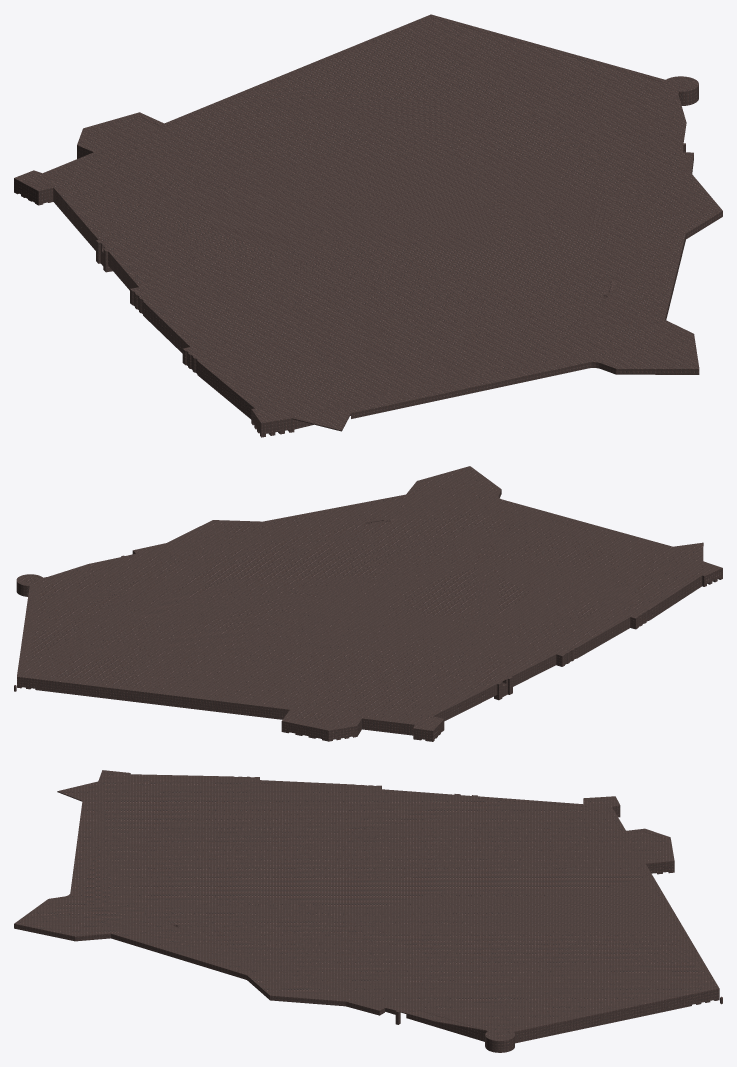
Rendered from Fortify_Plan.fbx.
The picture shows the model from 3 angles, top to bottom: view 1: azimuth 30°, elevation 25°; view 2: azimuth 150°, elevation 25°; view 3: azimuth 270°, elevation 25°; orthographic projection. The views are drawn at different scales.
Visible parts, largest first — view 1: Mesh1; view 2: Mesh1; view 3: Mesh1.
Part boxes in pixels (x1=…): Mesh1: x1=14, y1=14, x2=722, y2=437; Mesh1: x1=14, y1=466, x2=722, y2=741; Mesh1: x1=14, y1=770, x2=722, y2=1052.
Bounding box in the file's own units: 447762 × 13257 × 494746.
1 material, 1 textured.
